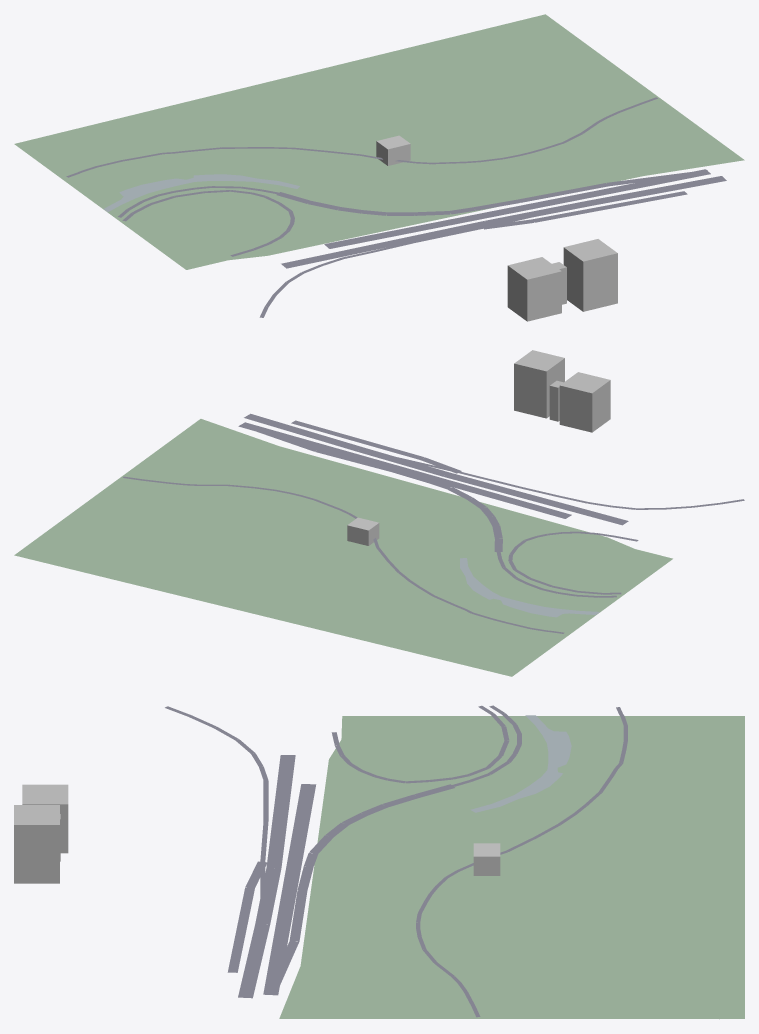
Rendered from 121_80_mid.glb.
The picture shows the model from 3 angles, top to bottom: view 1: azimuth 30°, elevation 25°; view 2: azimuth 150°, elevation 25°; view 3: azimuth 270°, elevation 25°; orthographic projection. The views are drawn at different scales.
Bounding box in the file's own units: 504 × 45.2 × 510.
